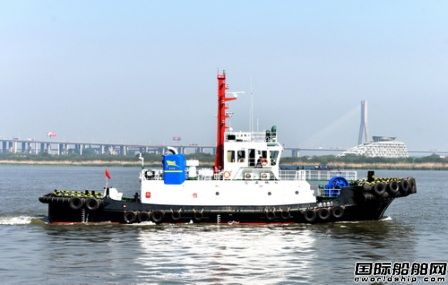otherboat: (39, 72, 419, 228)
